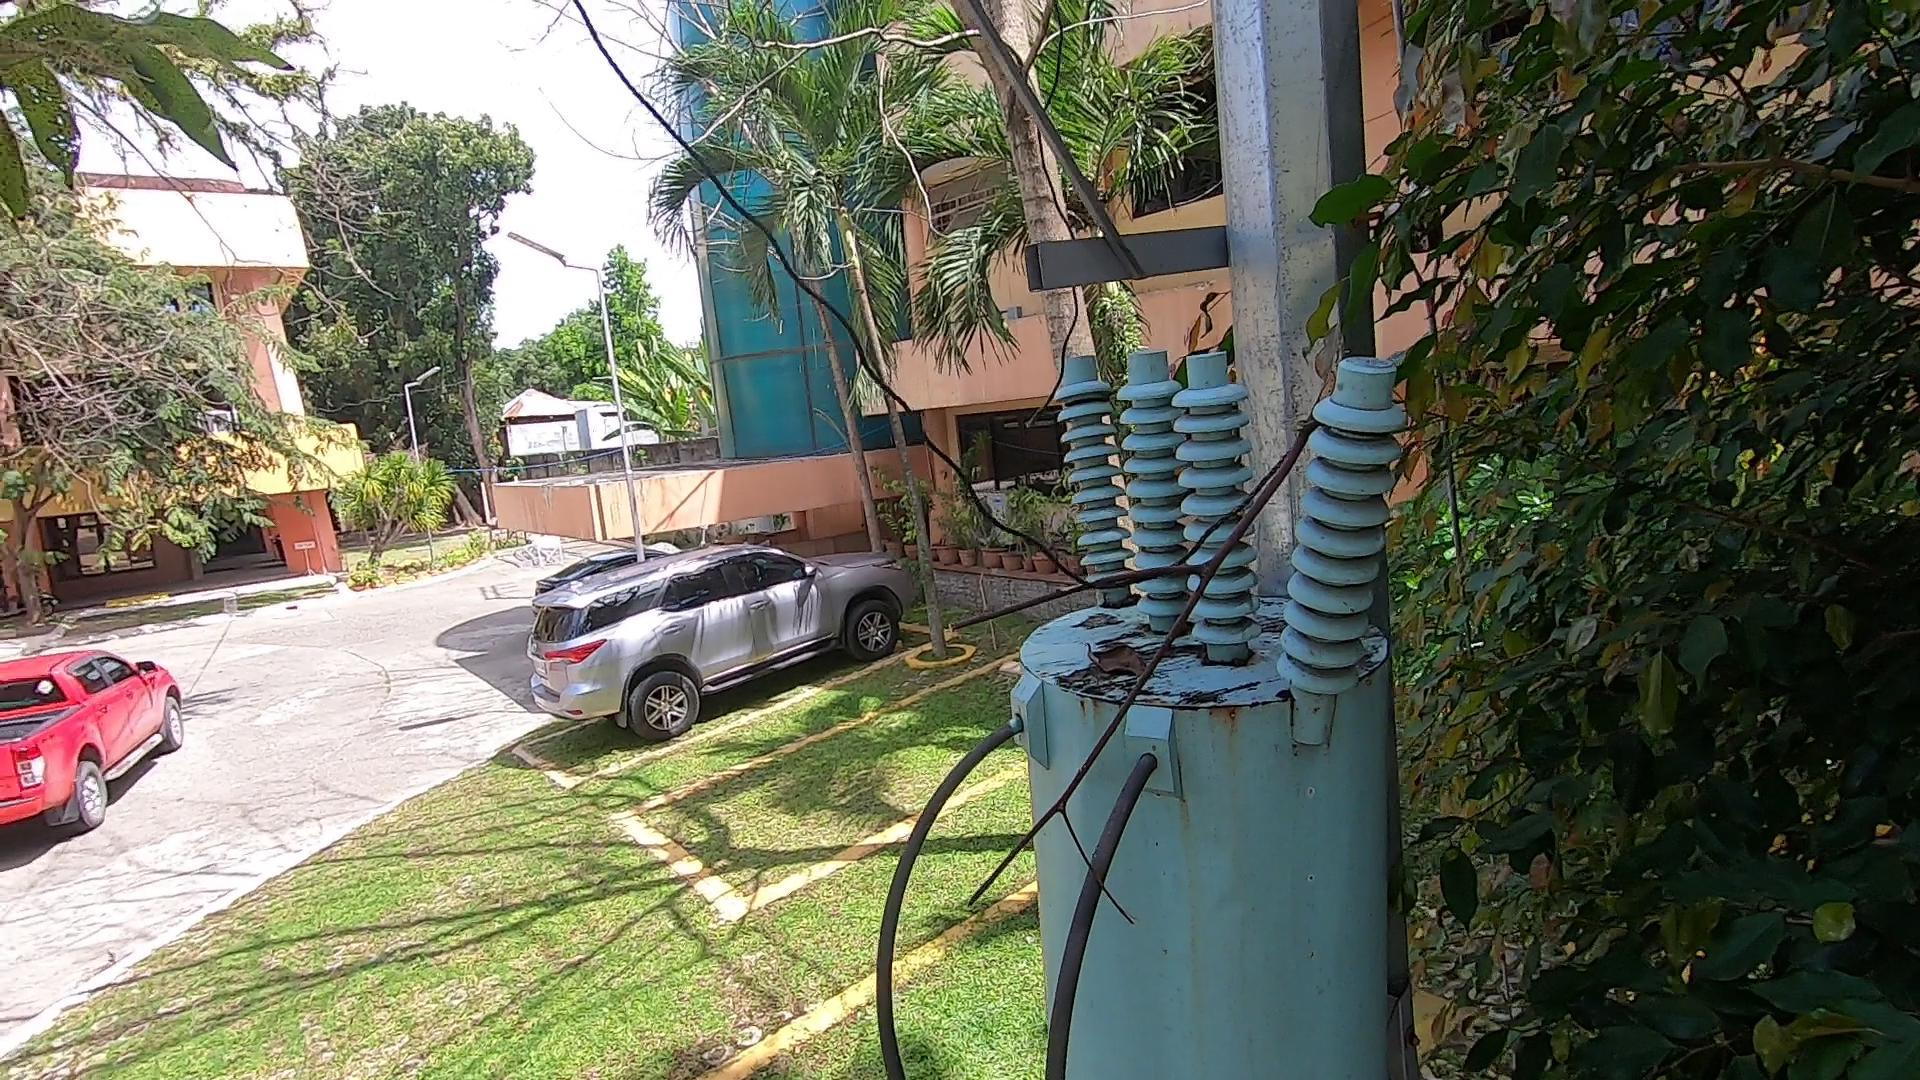leaf: (1085, 621, 1178, 694)
tree branch: (940, 394, 1338, 932)
